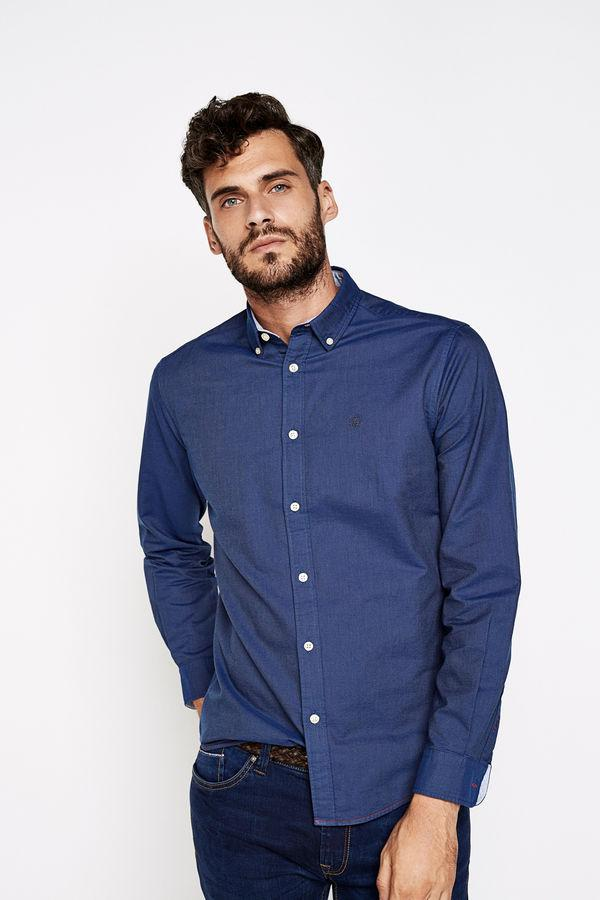teeshirt: (134, 281, 538, 804)
